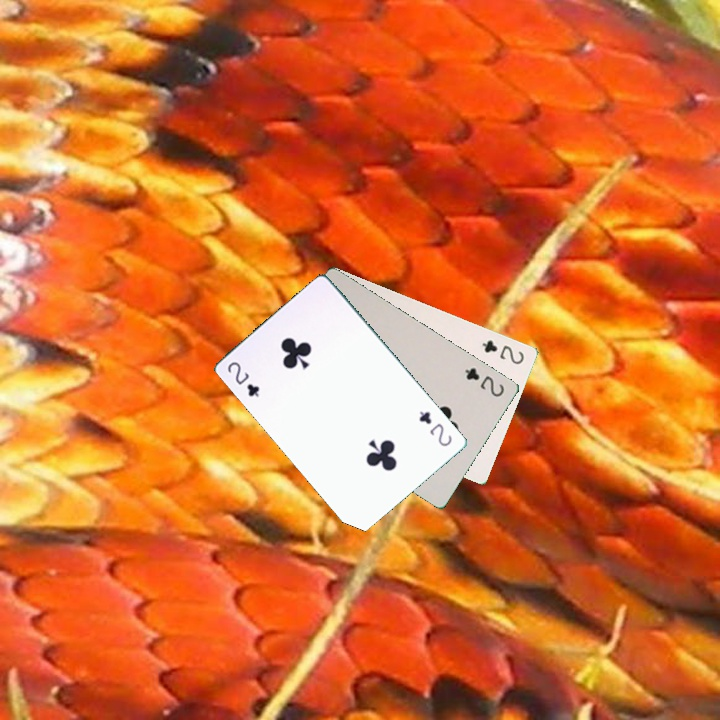2c: (461, 363, 507, 400), (415, 407, 454, 449), (223, 357, 262, 399), (478, 336, 527, 367)
